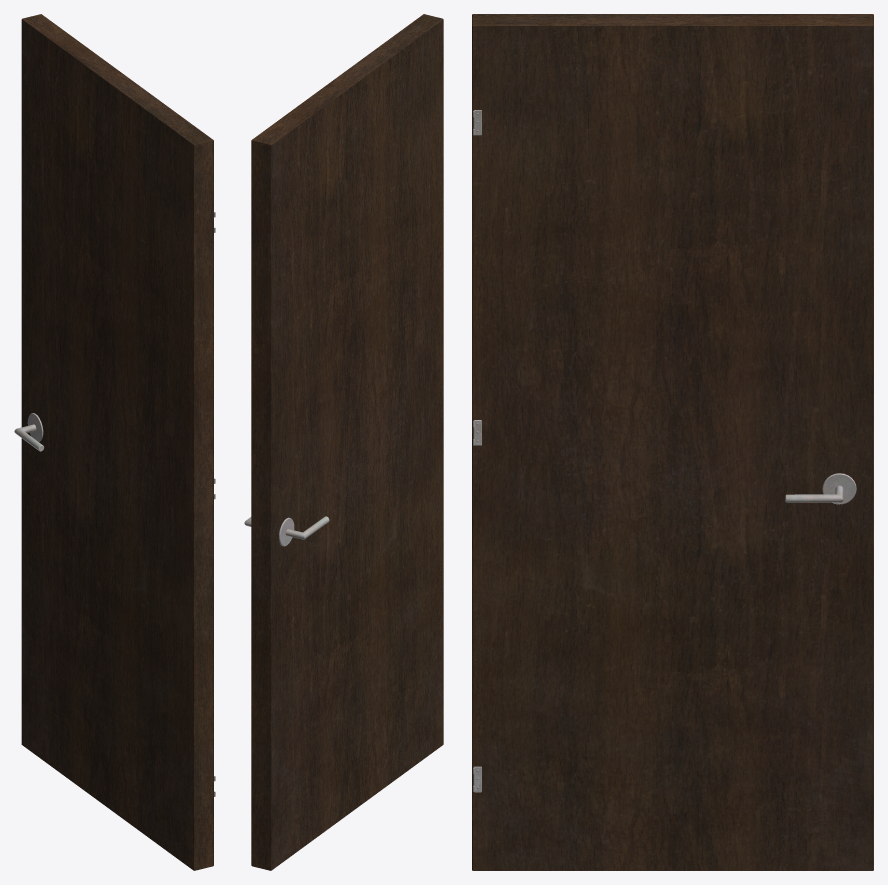
File: SM_Wall_Door_01a.fbx
3 renders of one model, left to right at view 1: azimuth 30°, elevation 25°; view 2: azimuth 150°, elevation 25°; view 3: azimuth 270°, elevation 25°, orthographic. The views are drawn at different scales.
Parts seen in each view (by area): view 1: SM_Wall_Door_01a_LOD0; view 2: SM_Wall_Door_01a_LOD0; view 3: SM_Wall_Door_01a_LOD0.
Boxes of the visible parts, bbox=[...] form: SM_Wall_Door_01a_LOD0: bbox=[14, 14, 215, 870]; SM_Wall_Door_01a_LOD0: bbox=[244, 14, 443, 870]; SM_Wall_Door_01a_LOD0: bbox=[472, 14, 873, 870].
Bounding box in the file's own units: 17.94 × 87.45 × 203.
